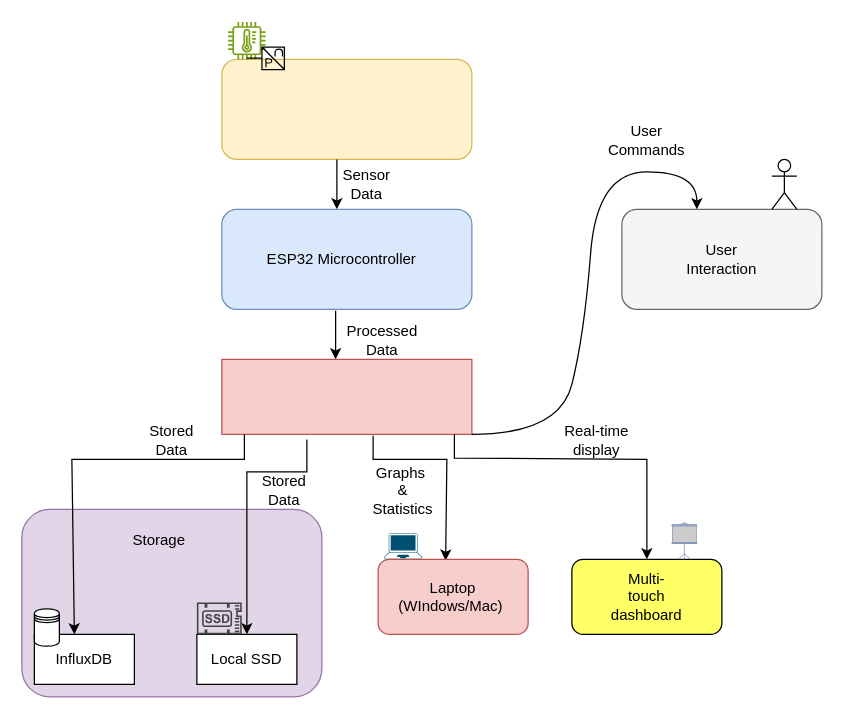
Some shapes in this 844 by 719 pixel diagram are drawn without their labels. The box of each missing label's shape, as (x1, y1, x2, y2) in pixels:
Actor: (771, 158, 797, 209)
I2C Sensors: (221, 58, 472, 159)
Raspberry Pi 5: (221, 358, 472, 434)
